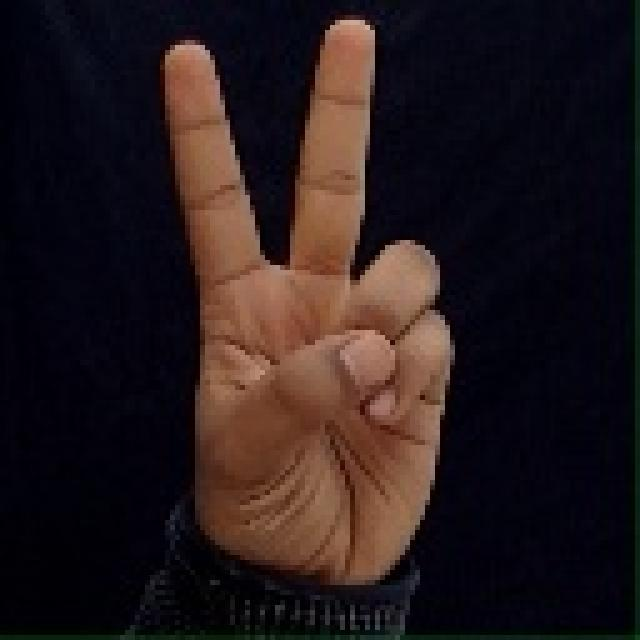No: (134, 4, 490, 596)
